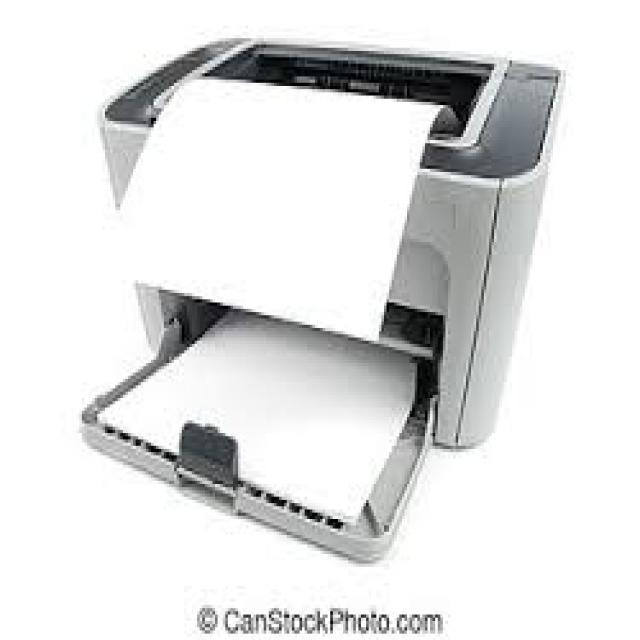printer: (51, 20, 582, 592)
